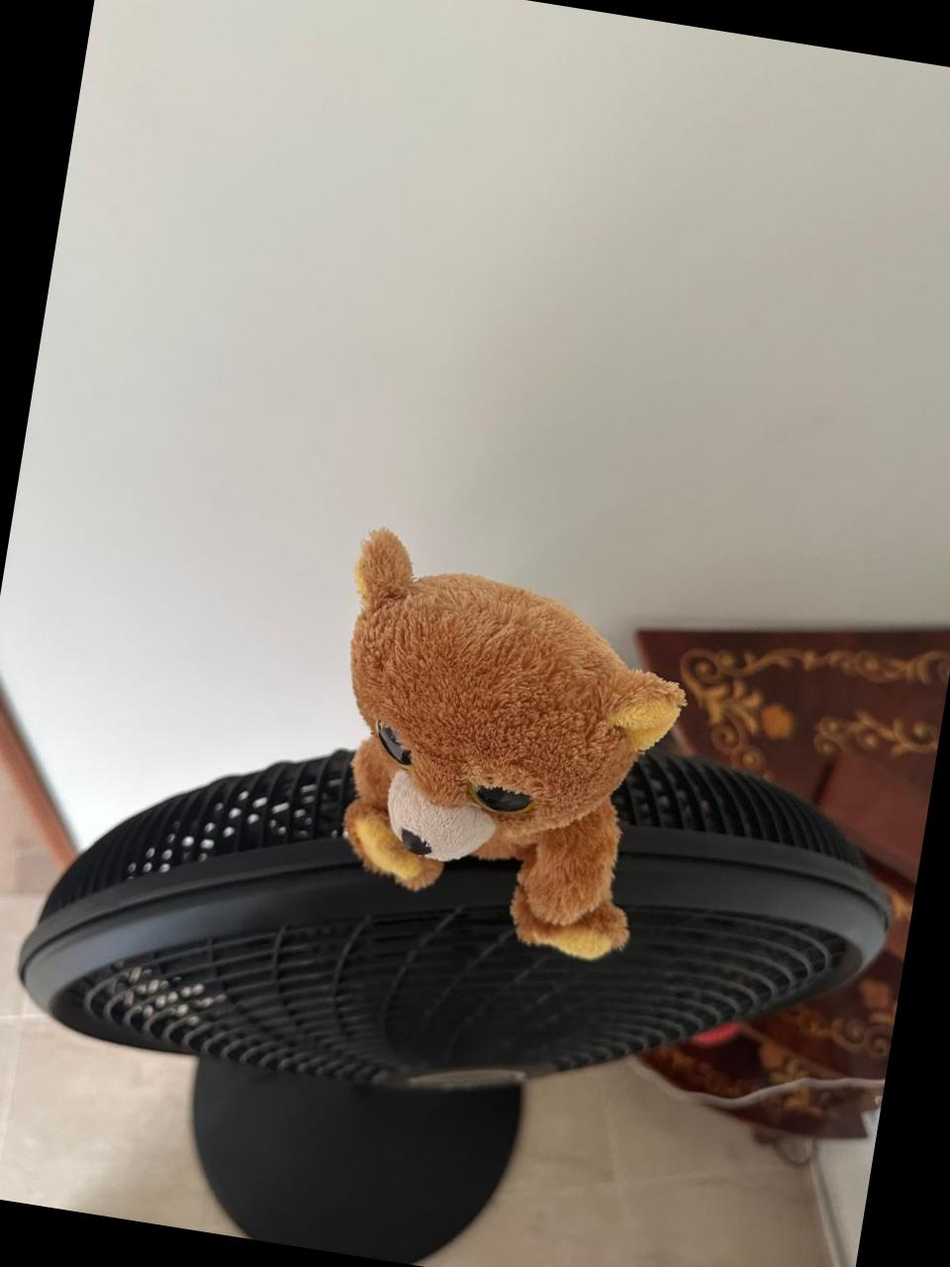peluche_sebastian: (299, 526, 704, 973)
